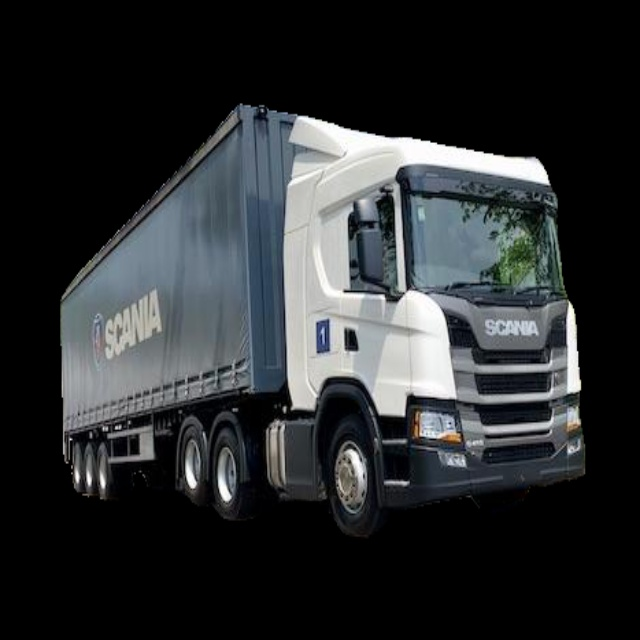Truck: (59, 103, 584, 537)
